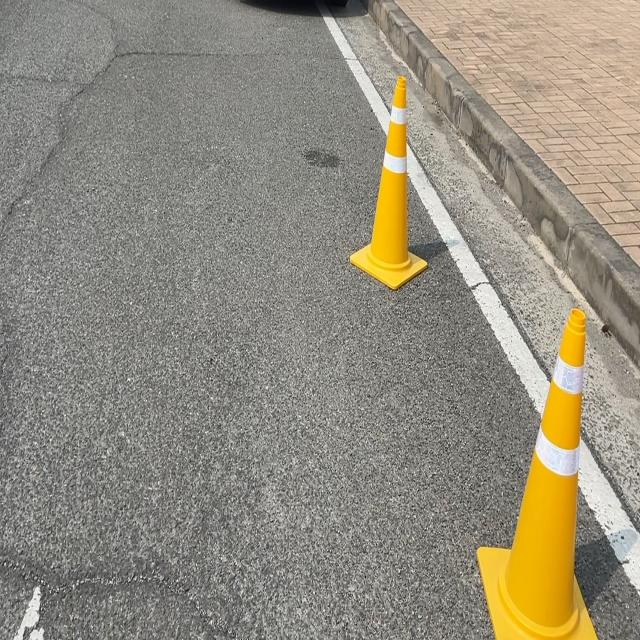y_rub: (478, 308, 598, 640), (350, 75, 427, 288)
